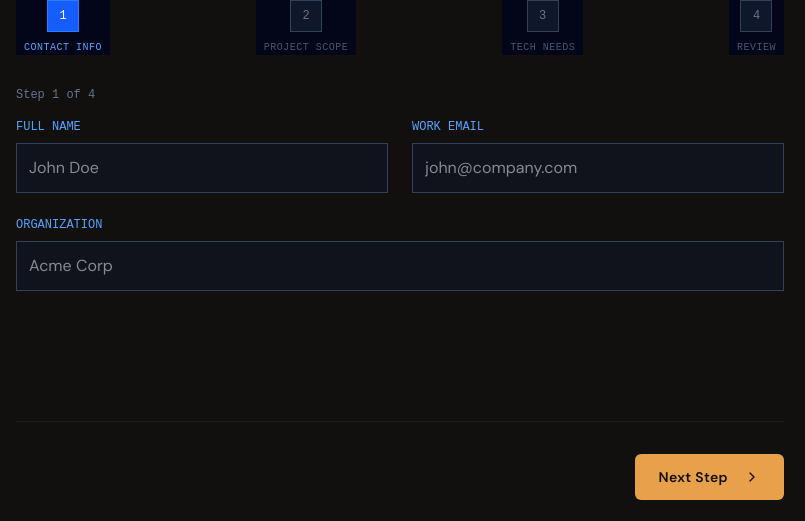
it: MultiStepForm › returns to step 0 when Back is clicked from step 1
The width and height of the screenshot is (805, 521).
In the field with placeholder "John Doe": x=202, y=168 top-left (16, 143), bottom-right (388, 193), type "Jane Doe"
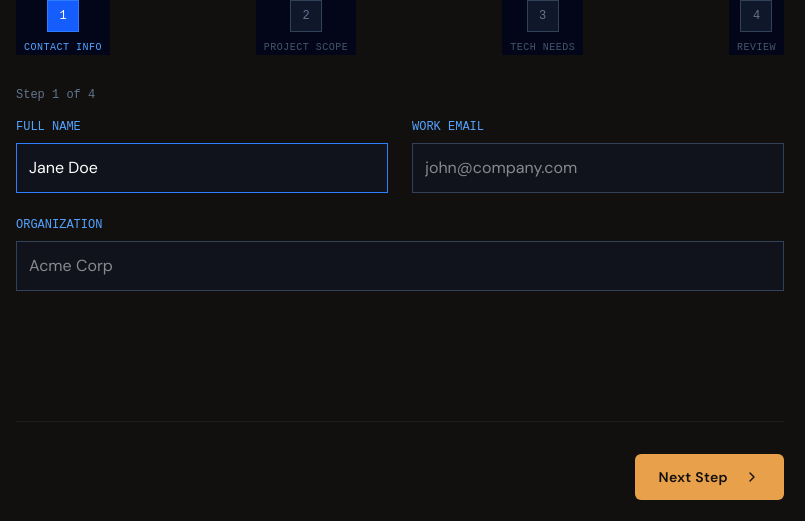
In the field with placeholder "john@company.com": x=598, y=168 top-left (412, 143), bottom-right (784, 193), type "jane@company.com"
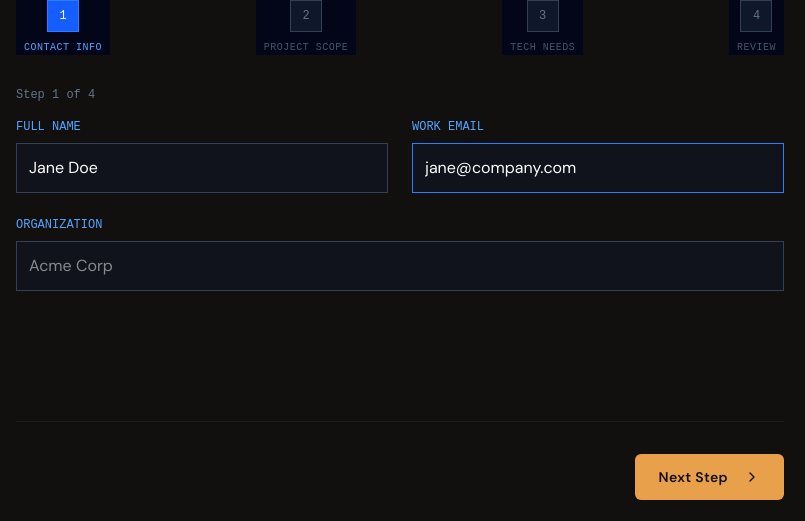
Click the button "Next Step": x=709, y=477 top-left (634, 454), bottom-right (784, 500)
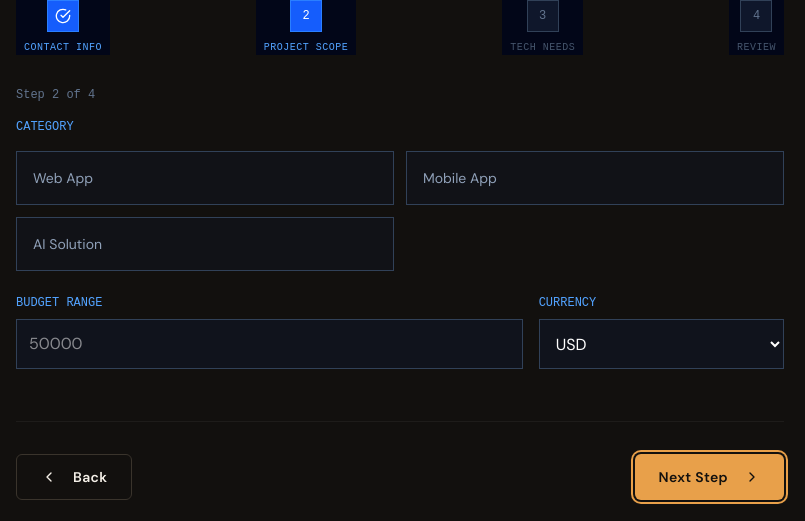
Expected: the text "Category" is shown, top-left (16, 120), bottom-right (74, 134)
Click the button "Back": x=74, y=477 top-left (16, 454), bottom-right (132, 500)
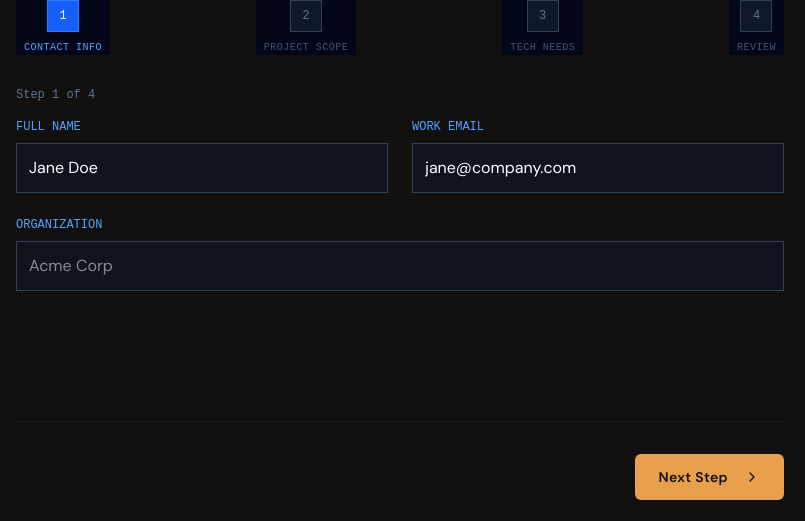
Expected: the field with placeholder "John Doe" below "Full Name" is shown, top-left (16, 143), bottom-right (388, 193)
